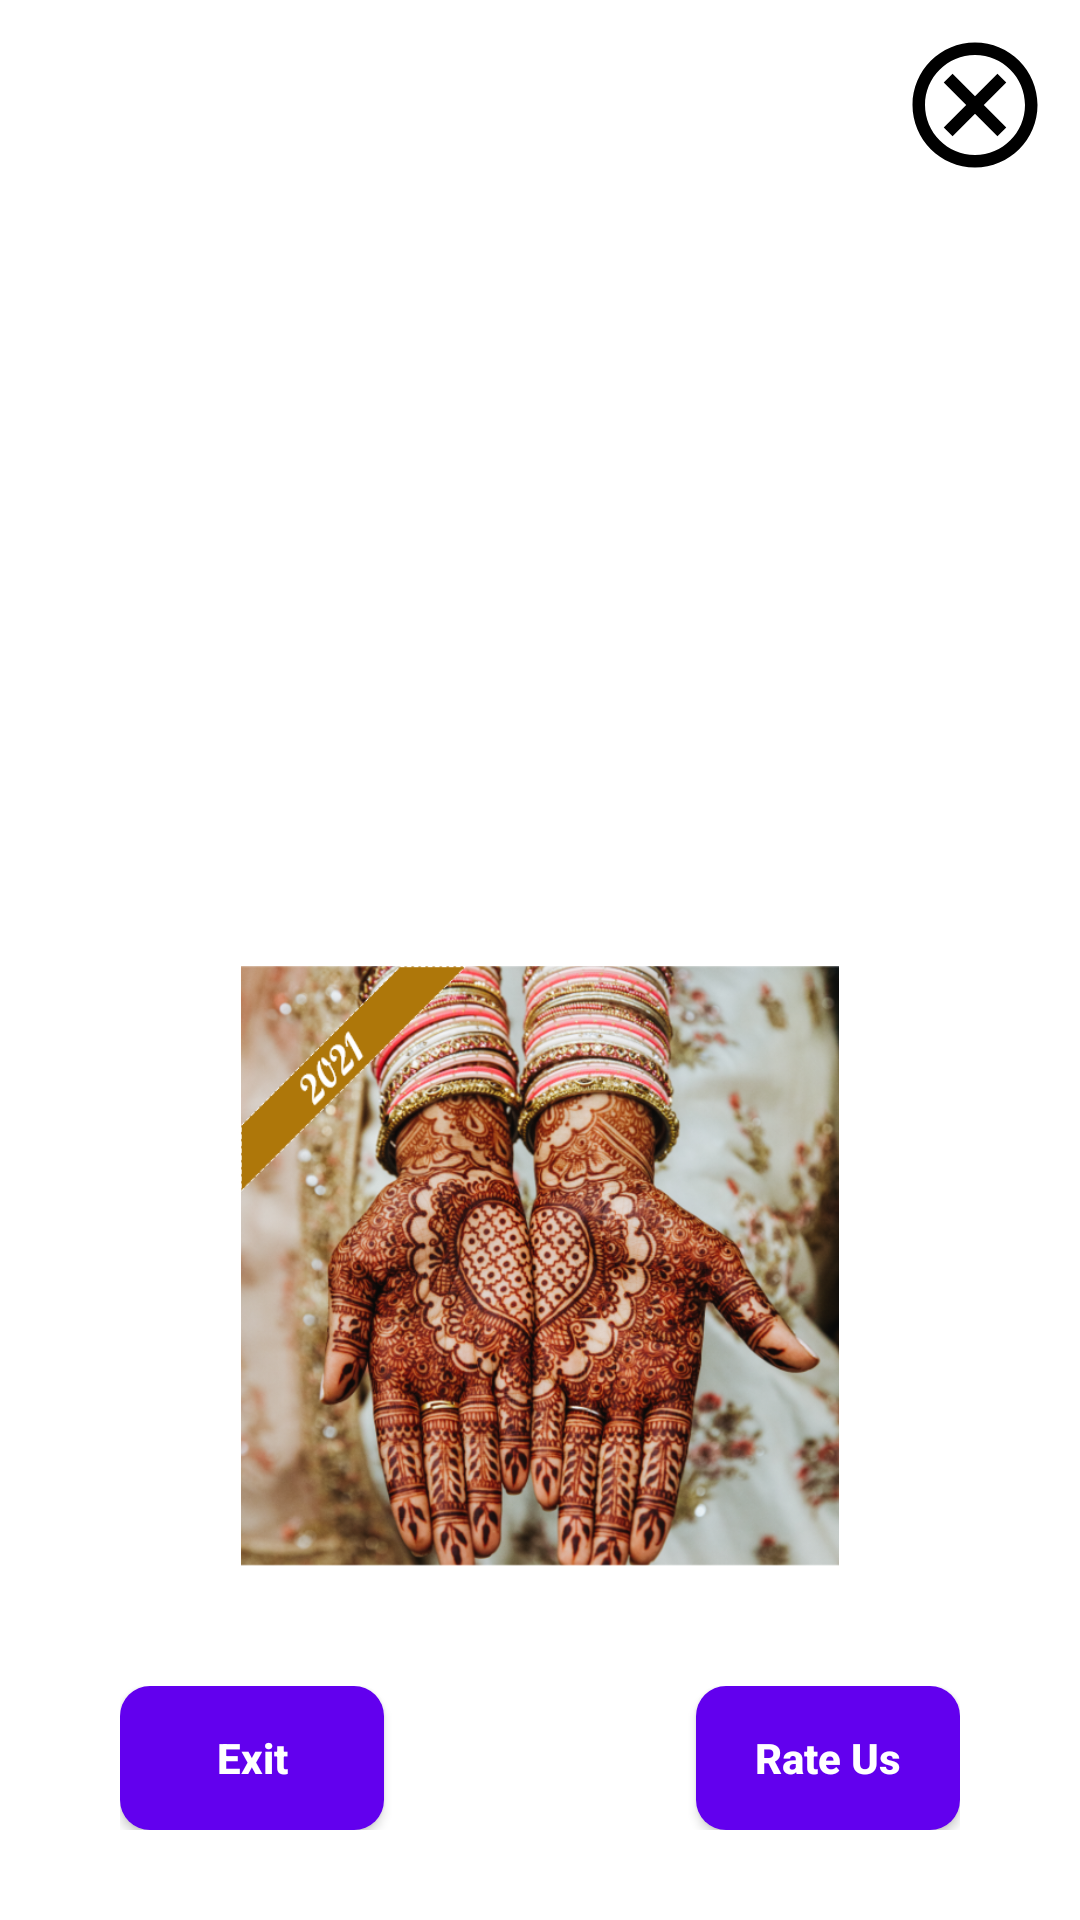

Point at icon controls on the screen. Image size 1080px×1920px, points as point (x, y).
cancel: point (975, 105)
